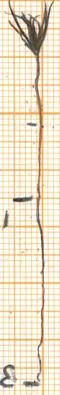flower: (2, 0, 57, 57)
root: (30, 201, 48, 388)
stem: (32, 59, 44, 200)
